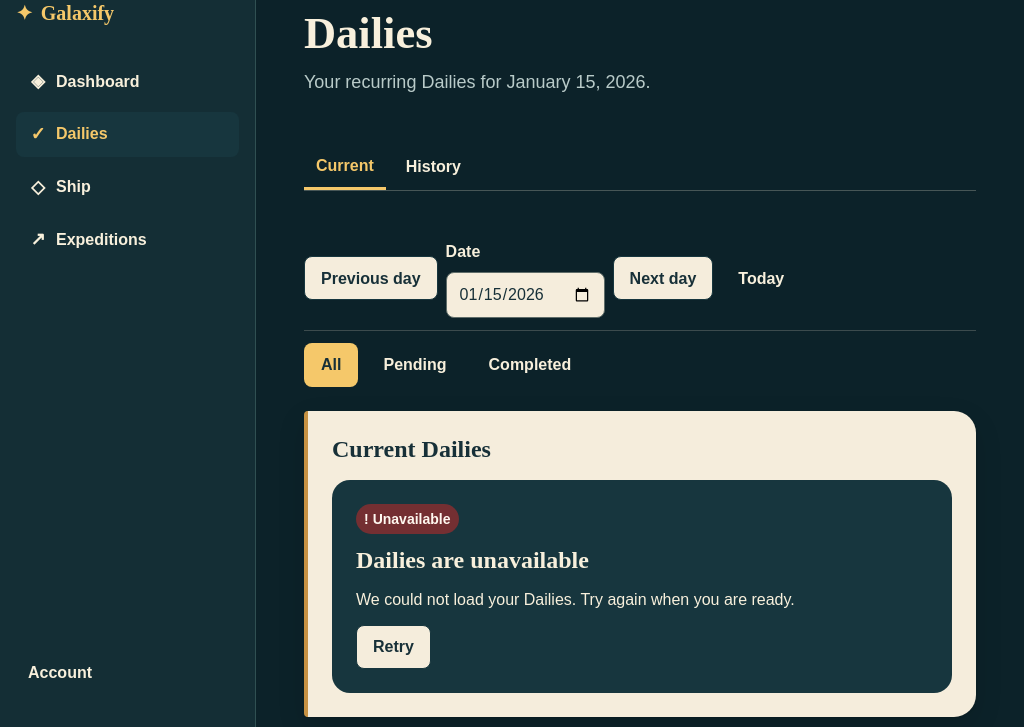
Test: /dailies completion and Ship reconciliation › shows an unavailable state on initial failure and recovers on Retry
Expected: the heading "Dailies are unavailable" is shown, [356,547,589,573]
Click the button "Retry": (393, 646) [356,624,431,668]
(page scrolled)
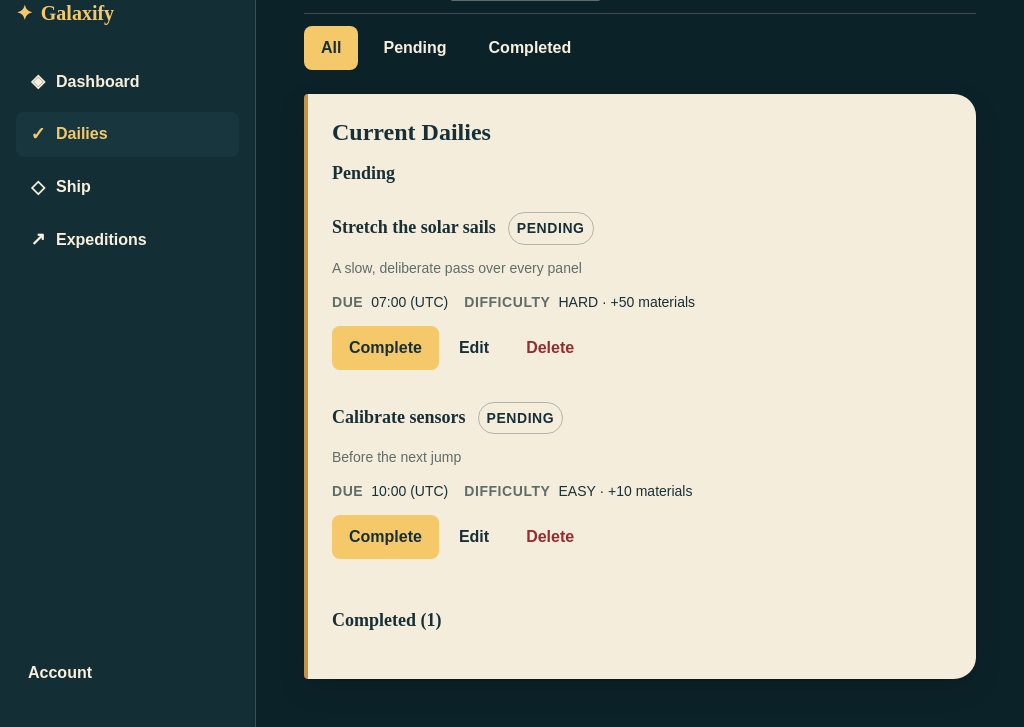
Now the heading "Calibrate sensors" is shown, box [332,406,466,428]
